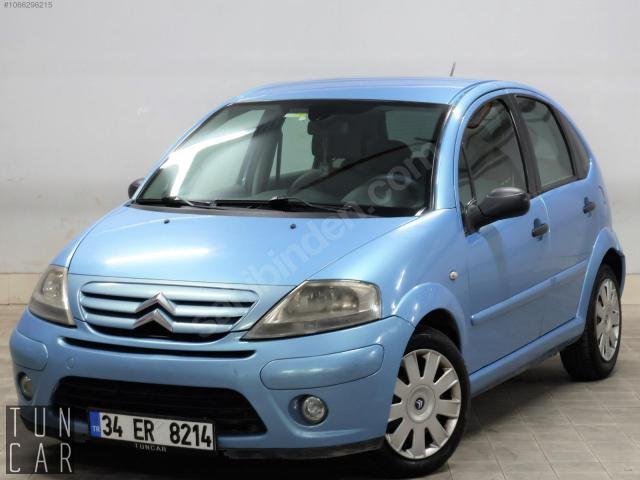plaka: (88, 411, 215, 450)
